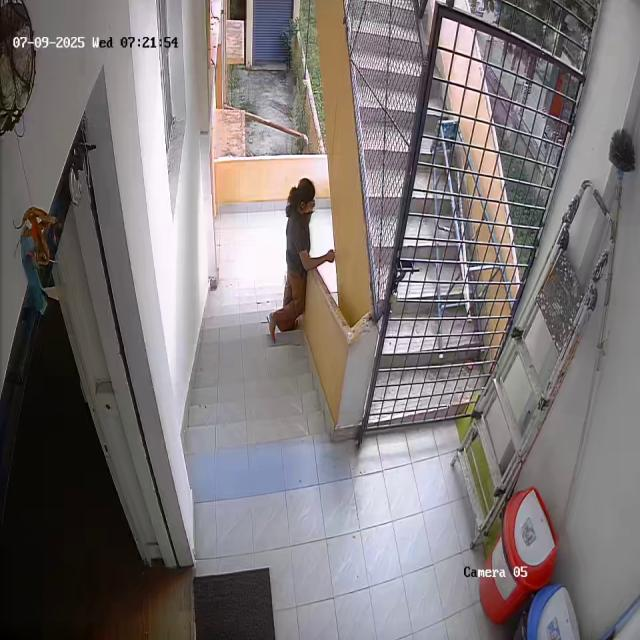person: (271, 176, 321, 334)
